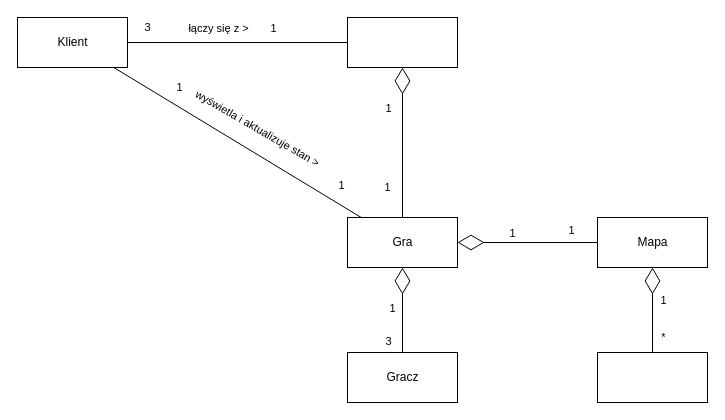
This 725x420 diagram has some shape labels left out. The shapes that lost their labels are listed below. From the top down, each one's box as (x1, y1, x2, y2) in pixels, then its label:
(346, 16, 458, 68): Serwer
(596, 352, 708, 402): Przeszkody
